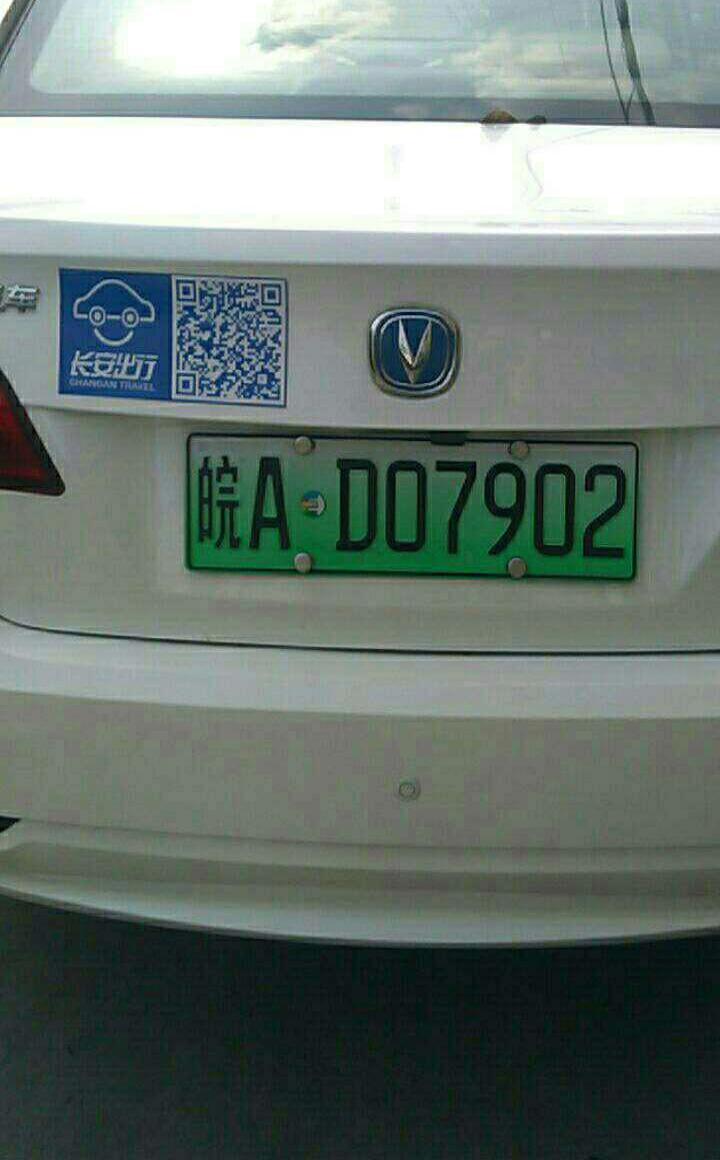car: (187, 421, 648, 578)
